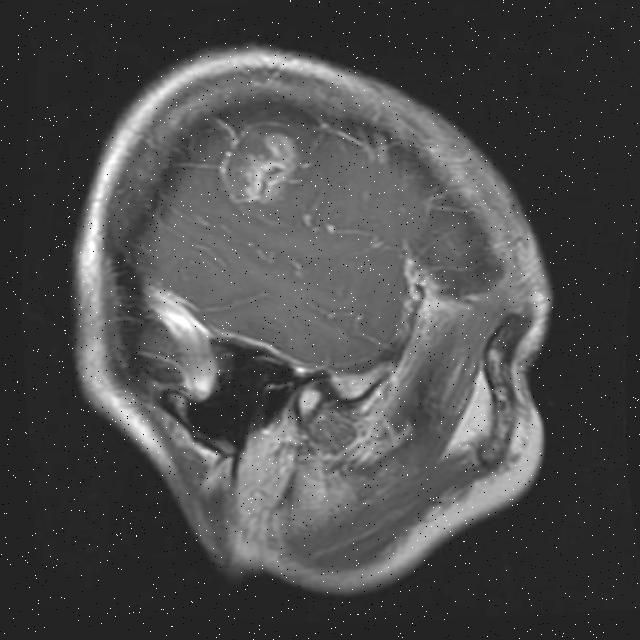Glioma: (236, 125, 304, 207)
